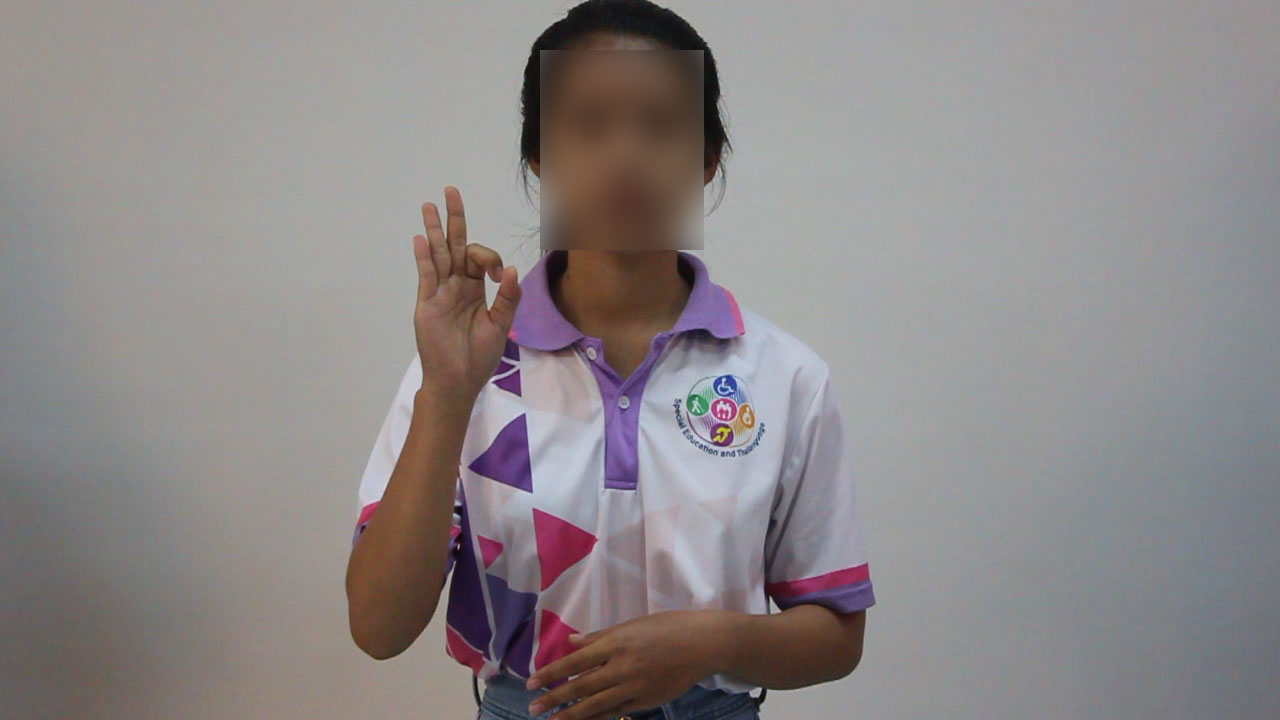for: (398, 179, 534, 409)
